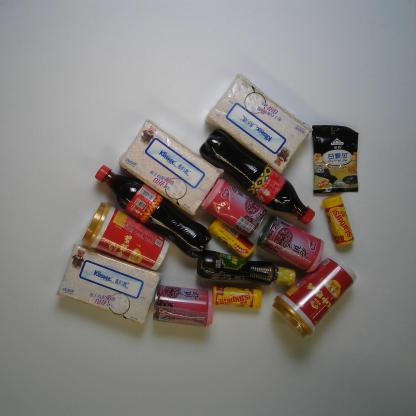Candy: (206, 216, 257, 262), (319, 192, 357, 249), (210, 282, 265, 311)
Canned Food: (198, 177, 269, 240), (255, 211, 325, 274), (151, 283, 216, 329)
Drink: (196, 126, 317, 227), (93, 165, 214, 260)
Instant Drink: (269, 253, 358, 341), (77, 199, 171, 273), (307, 120, 364, 197)
Seasoner: (193, 248, 298, 289)
Tissue: (202, 70, 315, 176), (115, 113, 227, 218), (54, 238, 162, 326)
